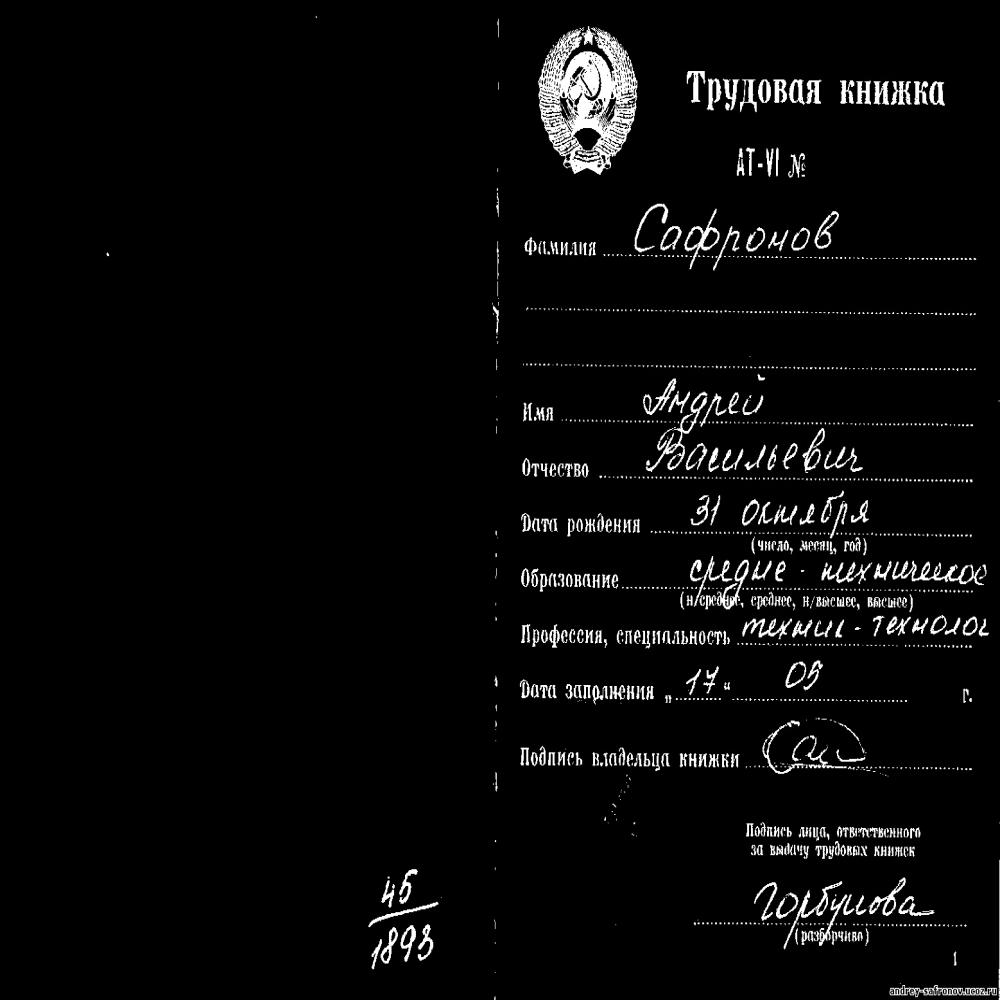rus: (634, 194, 844, 260), (641, 429, 883, 478), (687, 68, 956, 112), (683, 549, 997, 585), (739, 604, 1000, 644), (678, 478, 879, 527), (516, 614, 729, 657), (741, 877, 936, 923), (741, 816, 927, 864), (518, 742, 741, 780), (641, 370, 769, 424), (517, 506, 644, 543), (516, 681, 656, 709), (519, 564, 623, 596), (520, 447, 594, 490), (778, 649, 838, 699), (523, 230, 597, 267), (678, 661, 728, 697), (515, 392, 562, 430)
